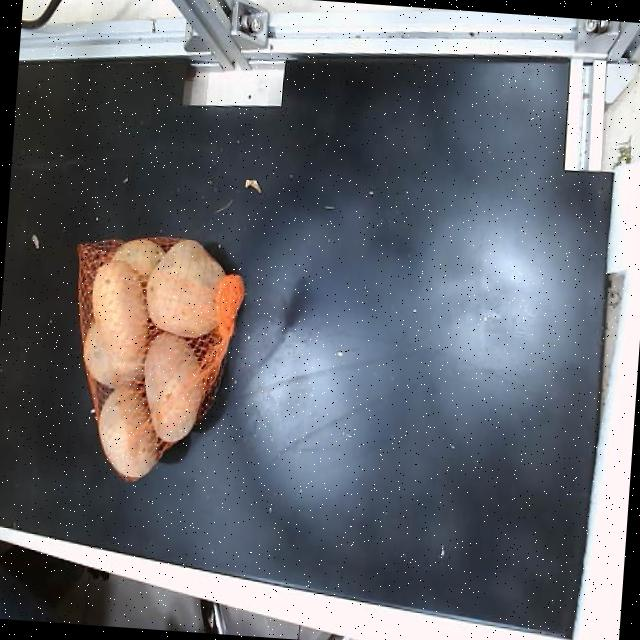potato: (146, 239, 243, 336), (91, 259, 145, 381), (143, 331, 202, 442), (99, 387, 156, 479), (82, 322, 134, 387), (113, 238, 163, 276)
